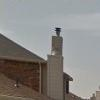Chimney: (43, 20, 74, 66)
